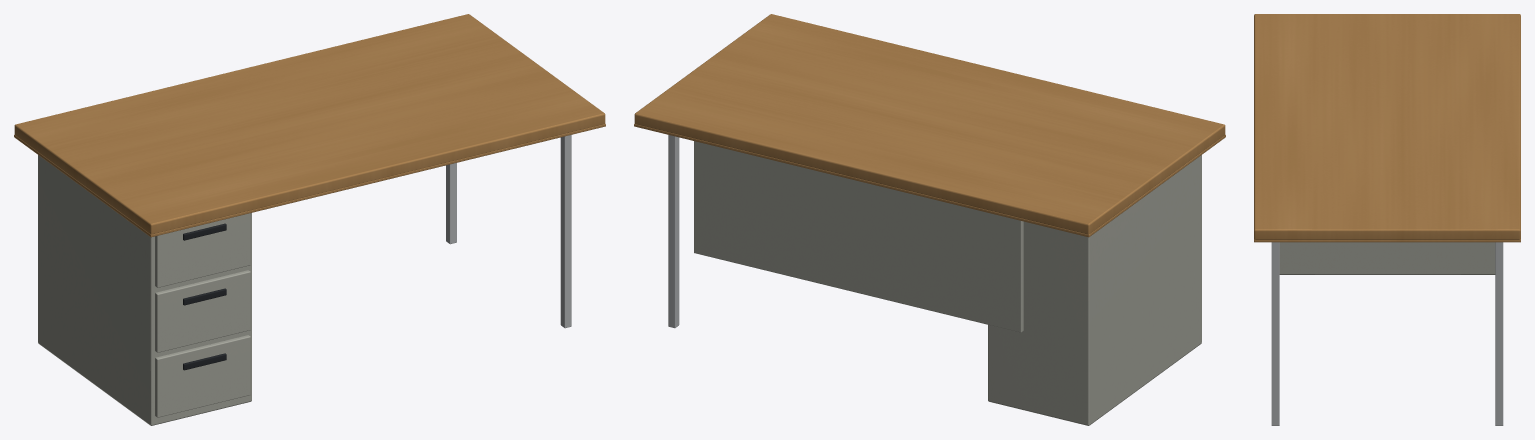
File: desk.glb
3 views of the same model, side by side, from view 1: azimuth 30°, elevation 25°; view 2: azimuth 150°, elevation 25°; view 3: azimuth 270°, elevation 25° (orthographic). The views are drawn at different scales.
Visible parts, largest first — view 1: Desk_Sales muted maple, Desk_Sales warm gray steel, Desk_Satin steel, Desk_Black office plastic; view 2: Desk_Sales warm gray steel, Desk_Sales muted maple, Desk_Satin steel; view 3: Desk_Sales muted maple, Desk_Sales warm gray steel, Desk_Satin steel.
Boxes of the visible parts, x1,y1,x2,y2 form: Desk_Sales muted maple: (14,14,605,237); Desk_Sales warm gray steel: (38,155,251,425); Desk_Satin steel: (446,135,571,328); Desk_Black office plastic: (183,223,226,370); Desk_Sales warm gray steel: (694,141,1201,425); Desk_Sales muted maple: (634,14,1225,237); Desk_Satin steel: (668,135,679,328); Desk_Sales muted maple: (1254,14,1520,242); Desk_Sales warm gray steel: (1279,242,1495,274); Desk_Satin steel: (1271,242,1503,425).
Size of the model in its own units: 14.5 by 6.51 by 7.56.
Materials: 4 (2 with a texture image).
